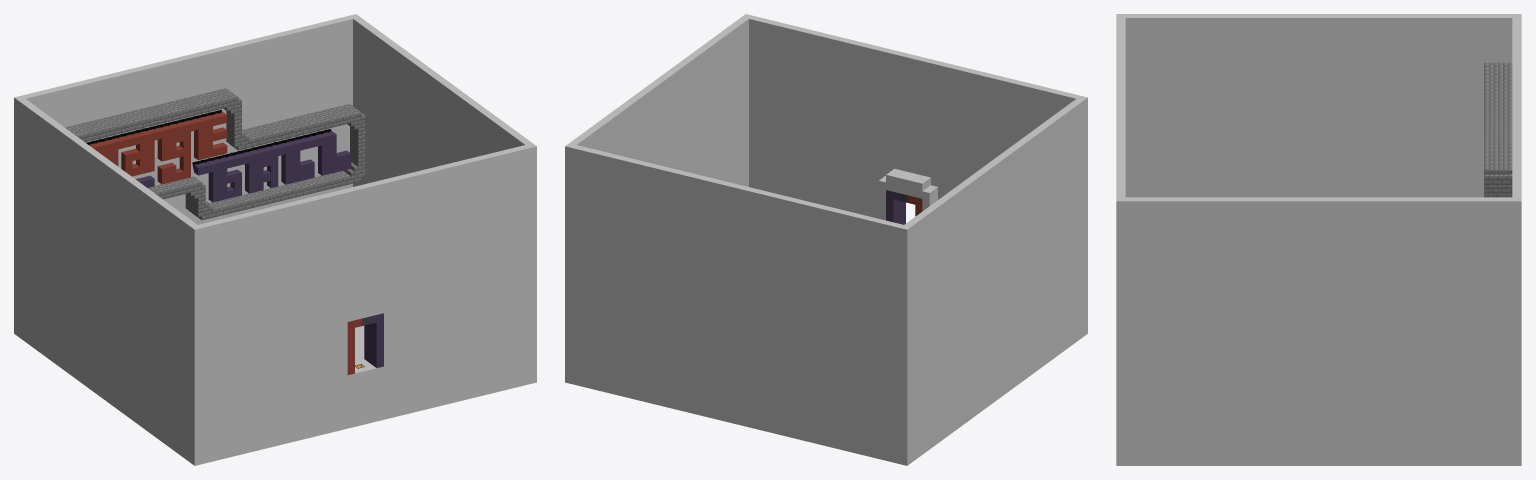
The model's file is minecraft.obj.
The picture shows the model from 3 angles, left to right: view 1: azimuth 30°, elevation 25°; view 2: azimuth 150°, elevation 25°; view 3: azimuth 270°, elevation 25°; orthographic projection. The views are drawn at different scales.
Size of the model in its own units: 47 by 31 by 43.
